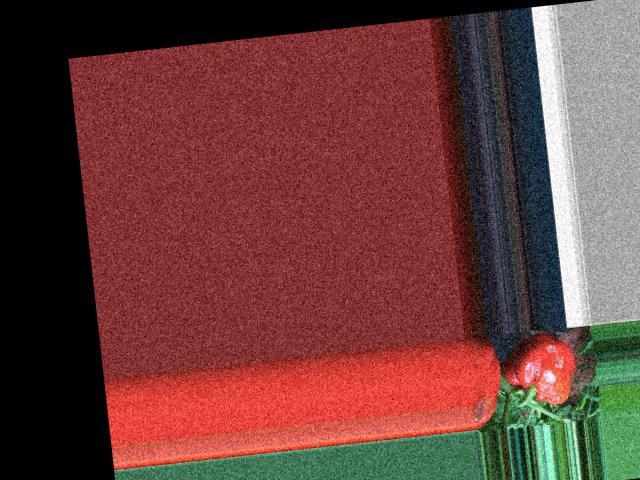bell_pepper: (499, 326, 577, 416)
